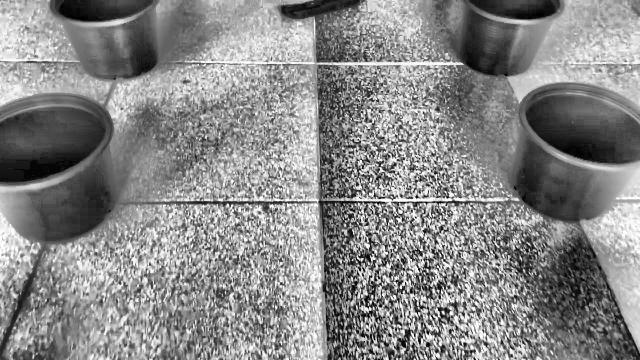pot: (0, 94, 119, 244), (513, 83, 640, 222)
